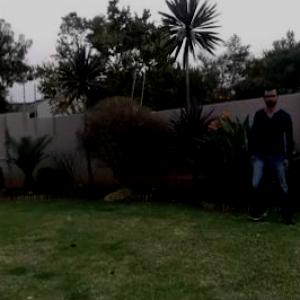follow: (249, 74, 293, 228)
